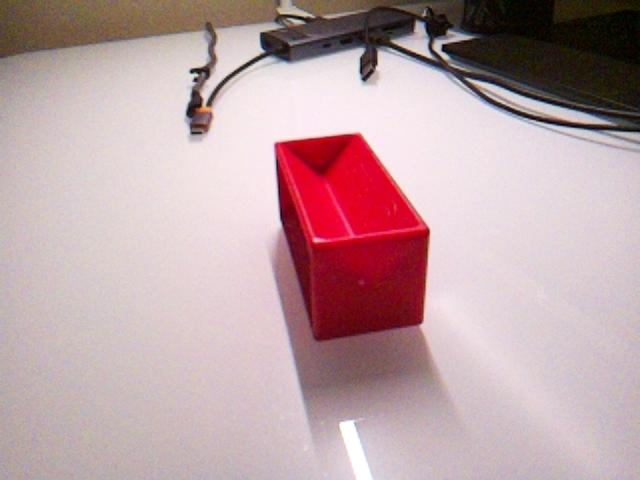red: (273, 131, 431, 341)
